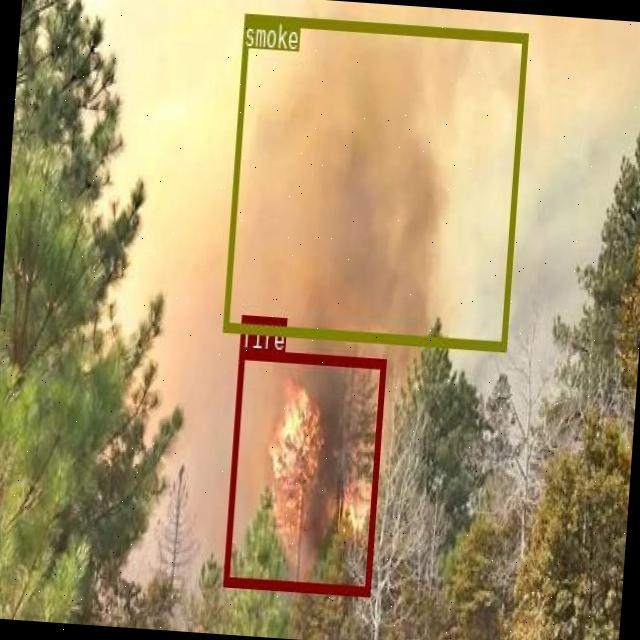fire: (222, 348, 386, 594)
smoke: (222, 13, 526, 350)
